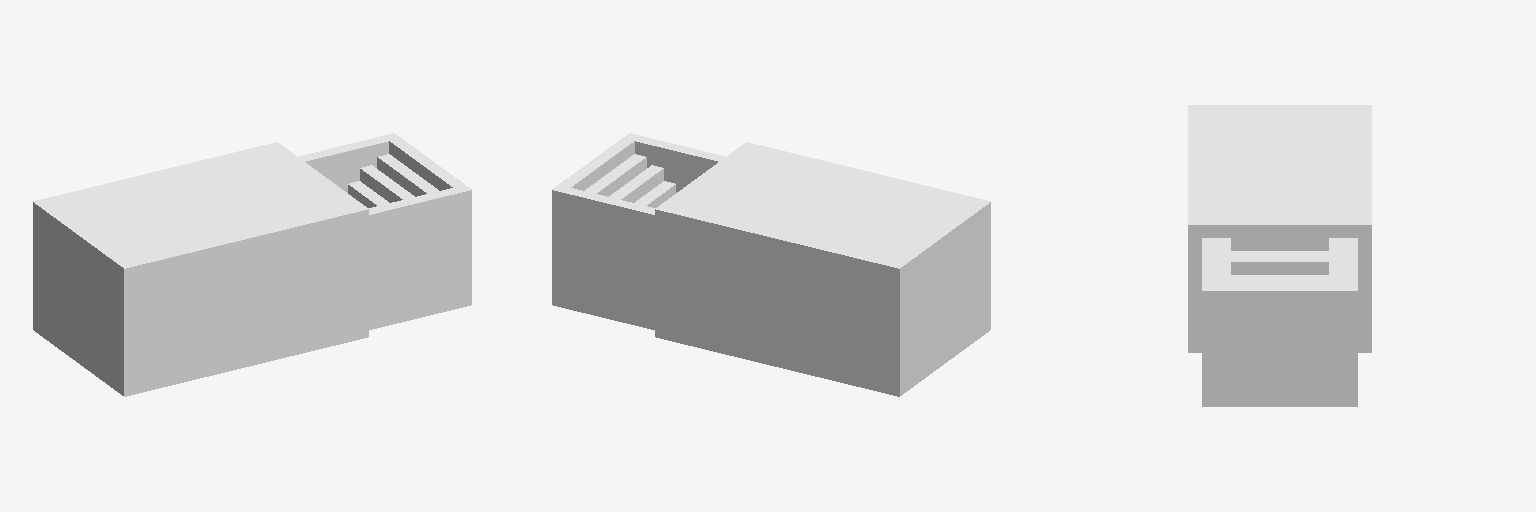
Rendered from sloxb.obj.
3 renders of one model, left to right at view 1: azimuth 30°, elevation 25°; view 2: azimuth 150°, elevation 25°; view 3: azimuth 270°, elevation 25°, orthographic.
Parts seen in each view (by area): view 1: object 1; view 2: object 1; view 3: object 1.
Part boxes in pixels (x1,y1,x2,y2): object 1: (33,133,471,396); object 1: (552,133,990,396); object 1: (1188,105,1371,406).
Bounding box in the file's own units: 2.9 × 1 × 1.3.